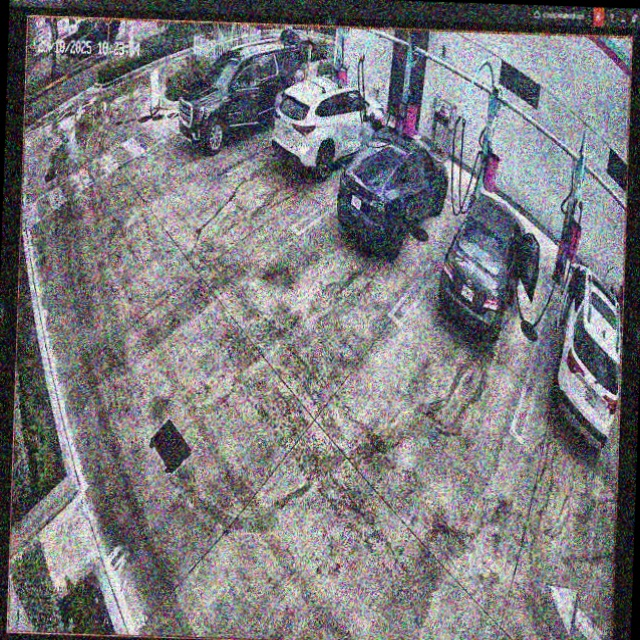Car: (437, 192, 541, 352), (339, 129, 449, 249), (272, 72, 385, 177)
